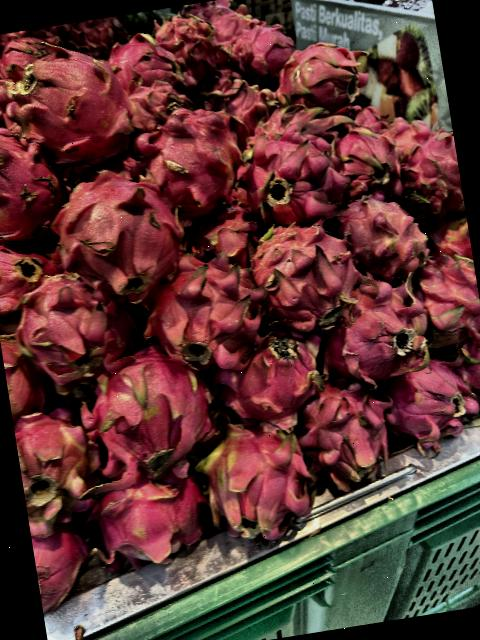buah-naga-belum-matang: (194, 419, 318, 544), (328, 190, 446, 296), (13, 408, 103, 526)
buah-naga-matang: (21, 158, 185, 312), (88, 342, 232, 484), (0, 37, 146, 177), (236, 198, 364, 344), (128, 88, 250, 224), (149, 251, 274, 382), (12, 270, 131, 394), (86, 468, 216, 574), (229, 118, 346, 230), (226, 330, 337, 434), (378, 348, 480, 456), (298, 382, 396, 484), (0, 112, 70, 247), (327, 119, 413, 204), (270, 46, 368, 118), (109, 29, 190, 110)
